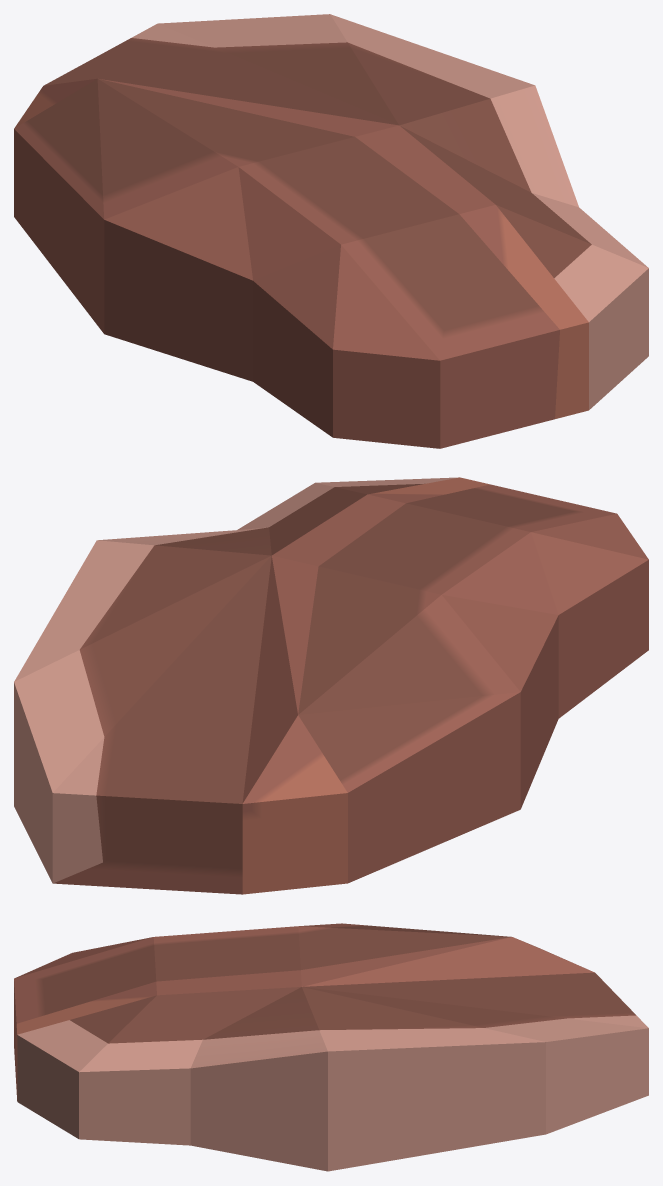
Rendered from SM_Prop_Food_Meat_01.fbx.
3 renders of one model, top to bottom at view 1: azimuth 30°, elevation 25°; view 2: azimuth 150°, elevation 25°; view 3: azimuth 270°, elevation 25°, orthographic. The views are drawn at different scales.
Visible parts, largest first — view 1: SM_Prop_Food_Meat_01; view 2: SM_Prop_Food_Meat_01; view 3: SM_Prop_Food_Meat_01.
Boxes of the visible parts, x1=… form: SM_Prop_Food_Meat_01: x1=14, y1=14, x2=648, y2=448; SM_Prop_Food_Meat_01: x1=14, y1=477, x2=648, y2=894; SM_Prop_Food_Meat_01: x1=14, y1=923, x2=648, y2=1171.
Size of the model in its own units: 16.73 by 6.65 by 28.58.
